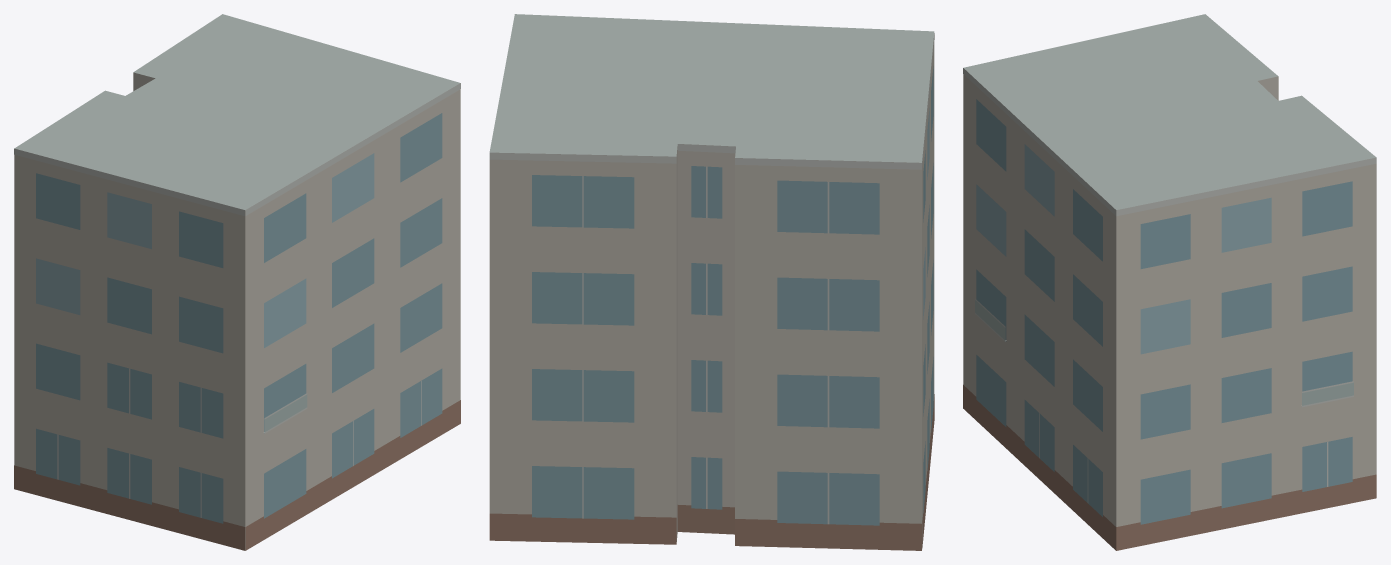
Rendered from survey-upis-33038576.glb.
3 renders of one model, left to right at view 1: azimuth 30°, elevation 25°; view 2: azimuth 150°, elevation 25°; view 3: azimuth 270°, elevation 25°, orthographic. The views are drawn at different scales.
Parts seen in each view (by area): view 1: survey-upis-33038576.tmp; view 2: survey-upis-33038576.tmp; view 3: survey-upis-33038576.tmp.
Part boxes in pixels (x1,y1,x2,y2): survey-upis-33038576.tmp: (14, 14, 460, 550); survey-upis-33038576.tmp: (489, 14, 934, 550); survey-upis-33038576.tmp: (963, 14, 1376, 550).
Size of the model in its own units: 16.81 by 13.6 by 14.97.
